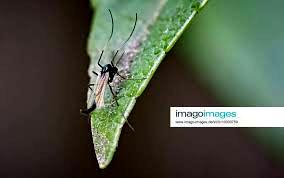Helopeltis-insect: (84, 55, 126, 113)
